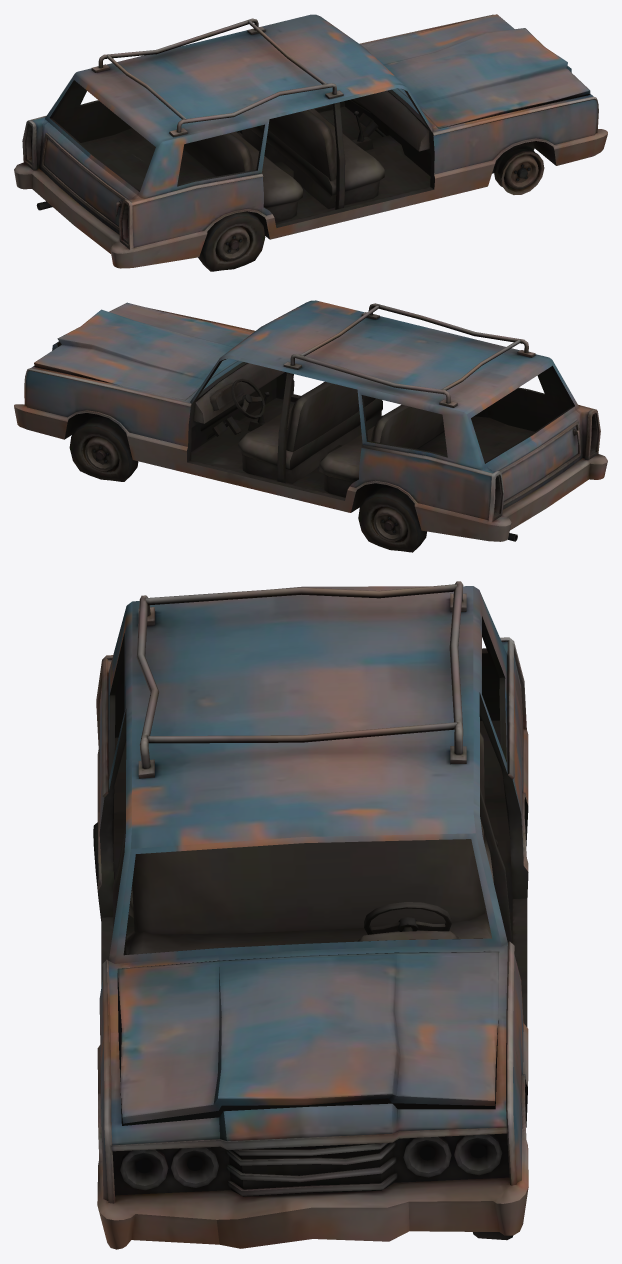
3 renders of one model, top to bottom at view 1: azimuth 30°, elevation 25°; view 2: azimuth 150°, elevation 25°; view 3: azimuth 270°, elevation 25°, orthographic. The views are drawn at different scales.
Visible parts, largest first — view 1: body0_model0_lod0_mesh0, body0_model0_lod0_mesh1; view 2: body0_model0_lod0_mesh0, body0_model0_lod0_mesh1; view 3: body0_model0_lod0_mesh0, body0_model0_lod0_mesh1.
Part boxes in pixels (x1=…): body0_model0_lod0_mesh0: x1=14, y1=14, x2=607, y2=271; body0_model0_lod0_mesh1: x1=52, y1=82, x2=434, y2=227; body0_model0_lod0_mesh0: x1=14, y1=300, x2=607, y2=552; body0_model0_lod0_mesh1: x1=187, y1=359, x2=572, y2=500; body0_model0_lod0_mesh0: x1=93, y1=581, x2=528, y2=1249; body0_model0_lod0_mesh1: x1=97, y1=631, x2=528, y2=1026.
Bounding box in the file's own units: 257 × 79.74 × 97.87.
Materials: 2 (2 with a texture image).
